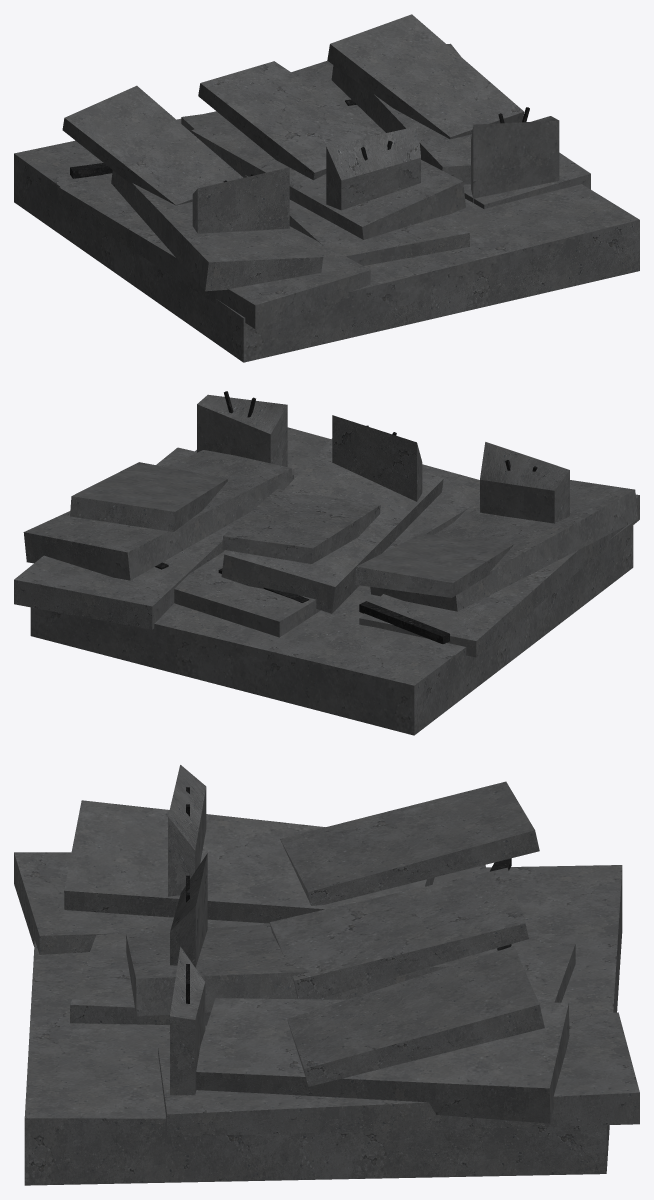
Rendered from city-corner.glb.
3 views of the same model, one above another, from view 1: azimuth 30°, elevation 25°; view 2: azimuth 150°, elevation 25°; view 3: azimuth 270°, elevation 25° (orthographic). The views are drawn at different scales.
Visible parts, largest first — view 1: city-corner-concrete, city-corner-steel; view 2: city-corner-concrete, city-corner-steel; view 3: city-corner-concrete.
Boxes of the visible parts, x1=… form: city-corner-concrete: x1=14, y1=14, x2=639, y2=362; city-corner-steel: x1=70, y1=99, x2=529, y2=182; city-corner-concrete: x1=14, y1=394, x2=639, y2=735; city-corner-steel: x1=155, y1=391, x2=537, y2=644; city-corner-concrete: x1=14, y1=765, x2=639, y2=1185.
Bounding box in the file's own units: 7.18 × 2.2 × 6.99.
Materials: 2 (2 with a texture image).
